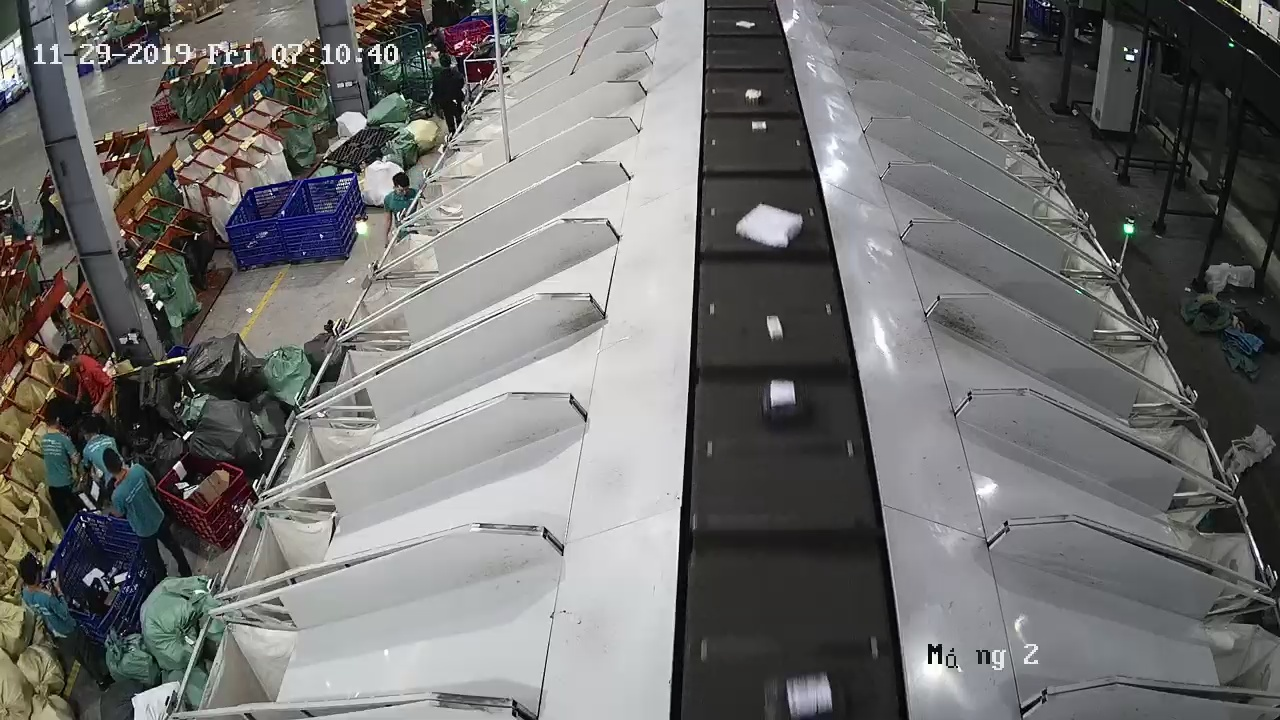parcel: (736, 203, 803, 248), (761, 378, 807, 429), (766, 315, 784, 342)
